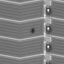dust: (30, 27, 34, 34)
